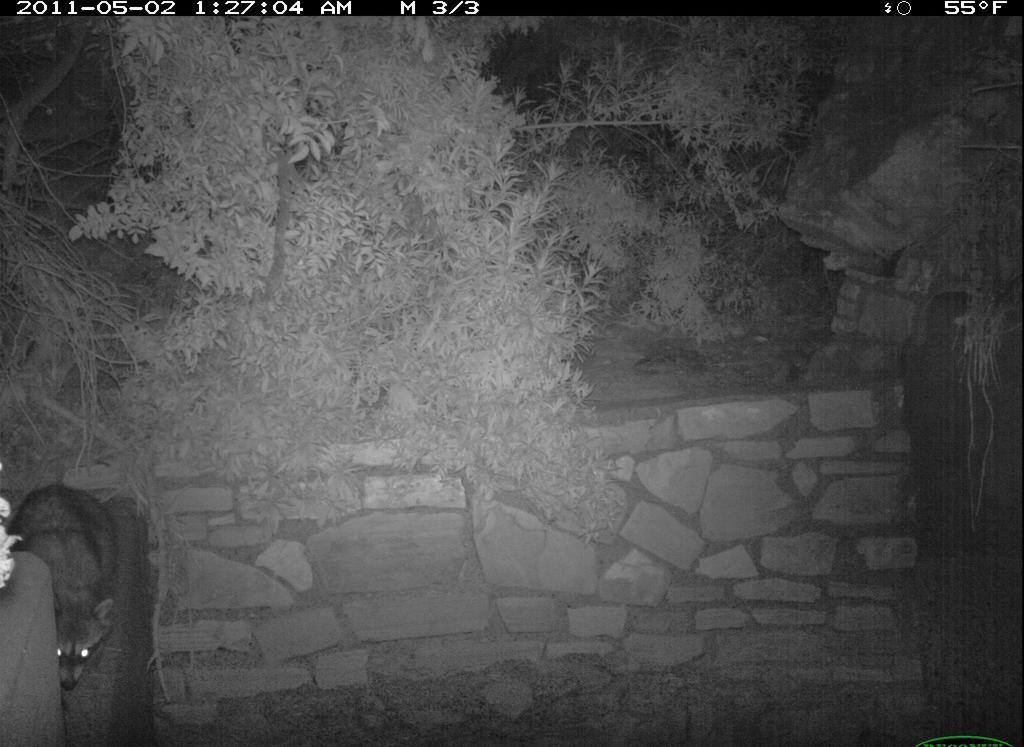raccoon: (1, 470, 136, 710)
